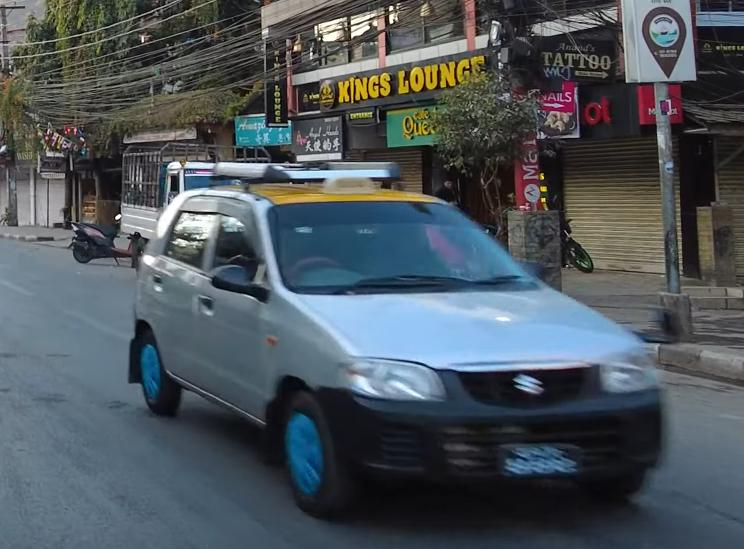scooter: (66, 214, 143, 266)
taxi: (122, 151, 675, 514)
